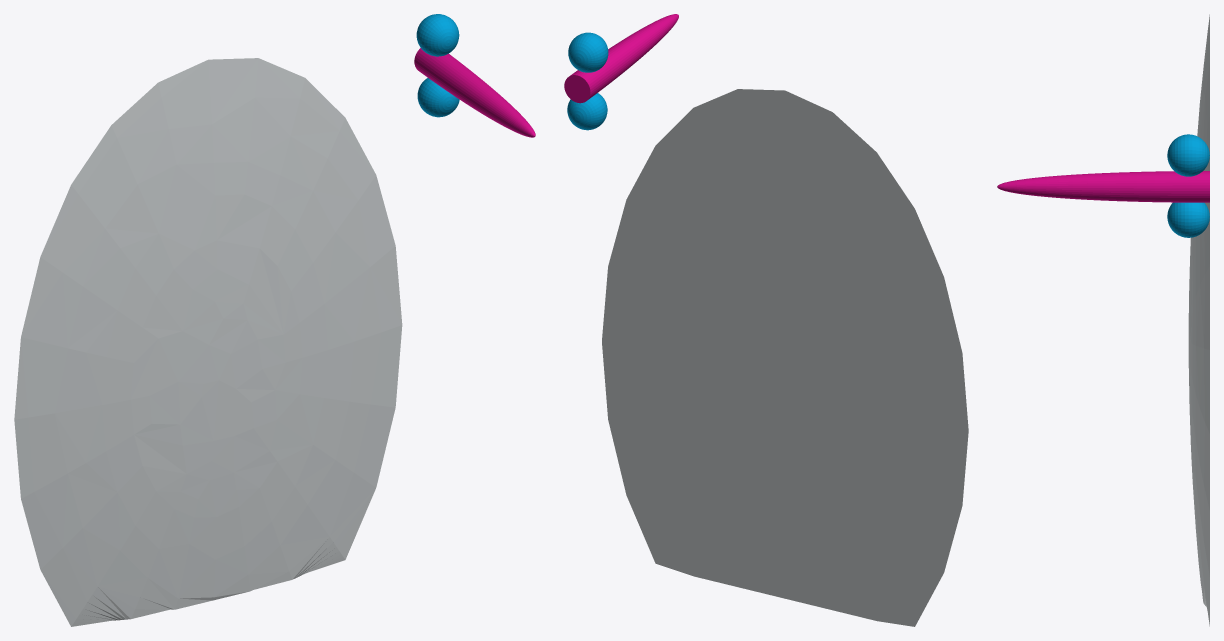
The model's file is tinker.obj.
3 views of the same model, side by side, from view 1: azimuth 30°, elevation 25°; view 2: azimuth 150°, elevation 25°; view 3: azimuth 270°, elevation 25° (orthographic). The views are drawn at different scales.
Visible parts, largest first — view 1: group_0_14541540, group_0_14093196, group_0_40919; view 2: group_0_14541540, group_0_14093196, group_0_40919; view 3: group_0_14541540, group_0_14093196, group_0_40919.
Boxes of the visible parts, left/top/right/bottom form: group_0_14541540: left=14, top=58, right=402, bottom=626; group_0_14093196: left=414, top=48, right=535, bottom=137; group_0_40919: left=416, top=14, right=459, bottom=117; group_0_14541540: left=602, top=89, right=968, bottom=626; group_0_14093196: left=564, top=14, right=678, bottom=103; group_0_40919: left=567, top=32, right=608, bottom=130; group_0_14541540: left=1188, top=14, right=1209, bottom=626; group_0_14093196: left=997, top=171, right=1209, bottom=202; group_0_40919: left=1167, top=134, right=1209, bottom=237.
Size of the model in its own units: 468 by 556 by 200.
